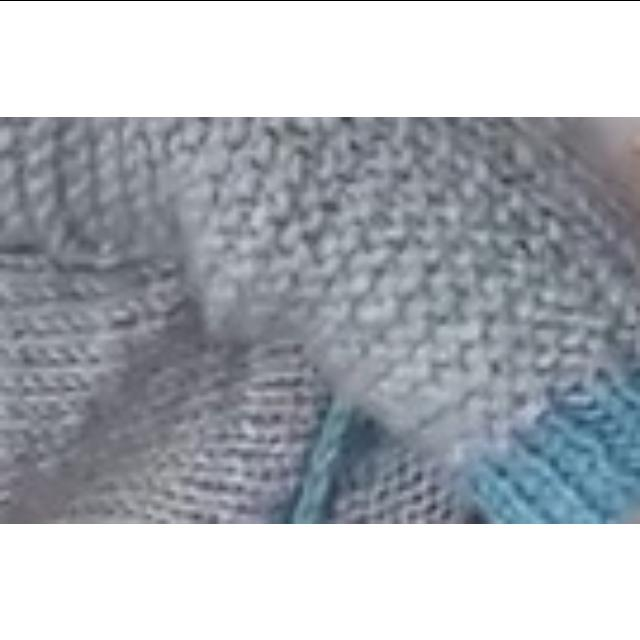linen: (0, 116, 384, 524)
